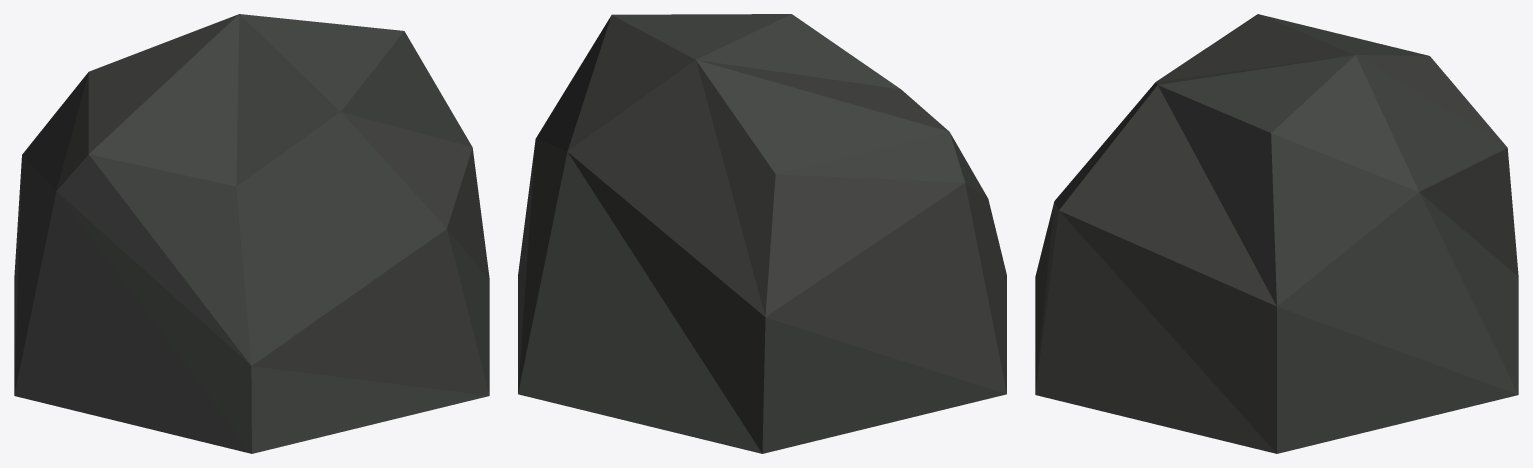
The model's file is Rock_Black_1.fbx.
3 renders of one model, left to right at view 1: azimuth 30°, elevation 25°; view 2: azimuth 150°, elevation 25°; view 3: azimuth 270°, elevation 25°, orthographic. The views are drawn at different scales.
Visible parts, largest first — view 1: Rock_Black_1; view 2: Rock_Black_1; view 3: Rock_Black_1.
Part boxes in pixels (x1,y1,x2,y2): Rock_Black_1: [14, 14, 489, 453]; Rock_Black_1: [518, 14, 1006, 453]; Rock_Black_1: [1035, 14, 1518, 453].
Bounding box in the file's own units: 2 × 1.16 × 1.73.
